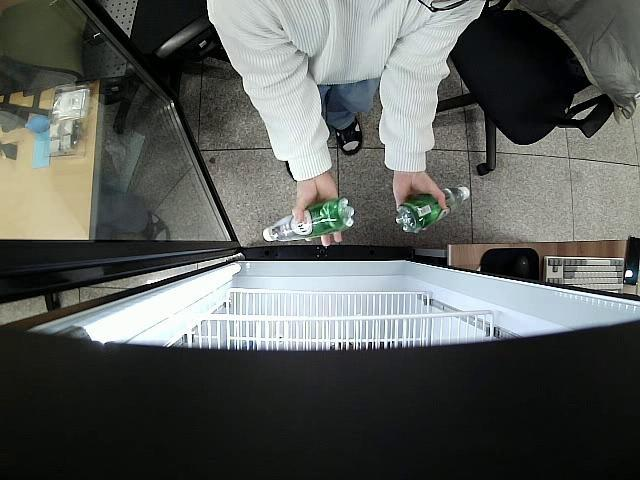18_trevi: (261, 197, 354, 248), (394, 184, 468, 232)
